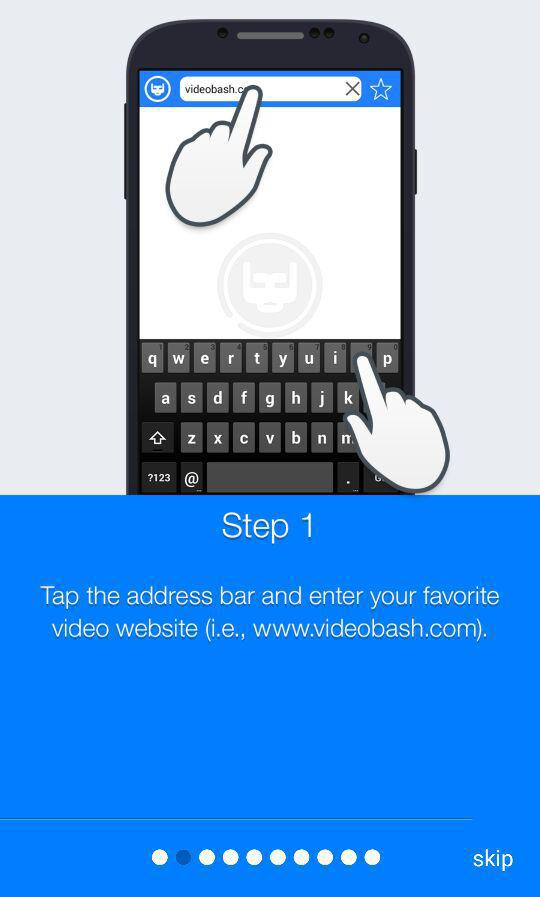Image: (124, 19, 452, 495)
PageIndicator: (151, 847, 382, 867)
Text: (40, 585, 500, 645), (221, 511, 313, 545), (473, 848, 514, 872)
